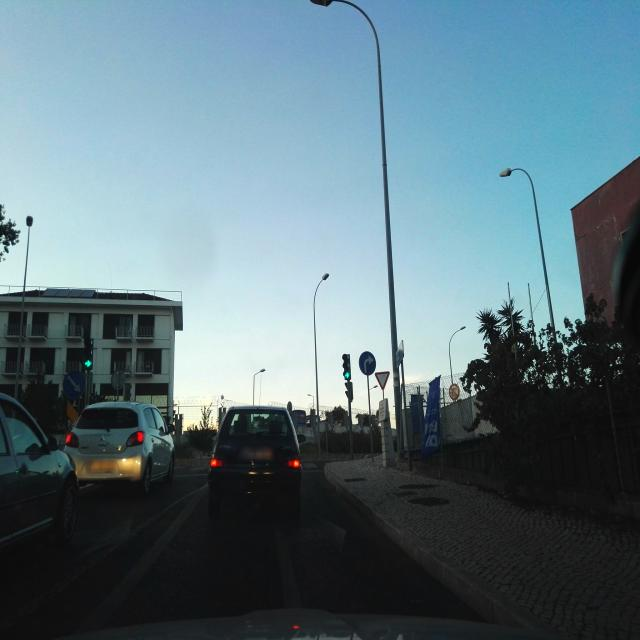car: (0, 382, 80, 606), (207, 404, 303, 518), (64, 400, 176, 496)
